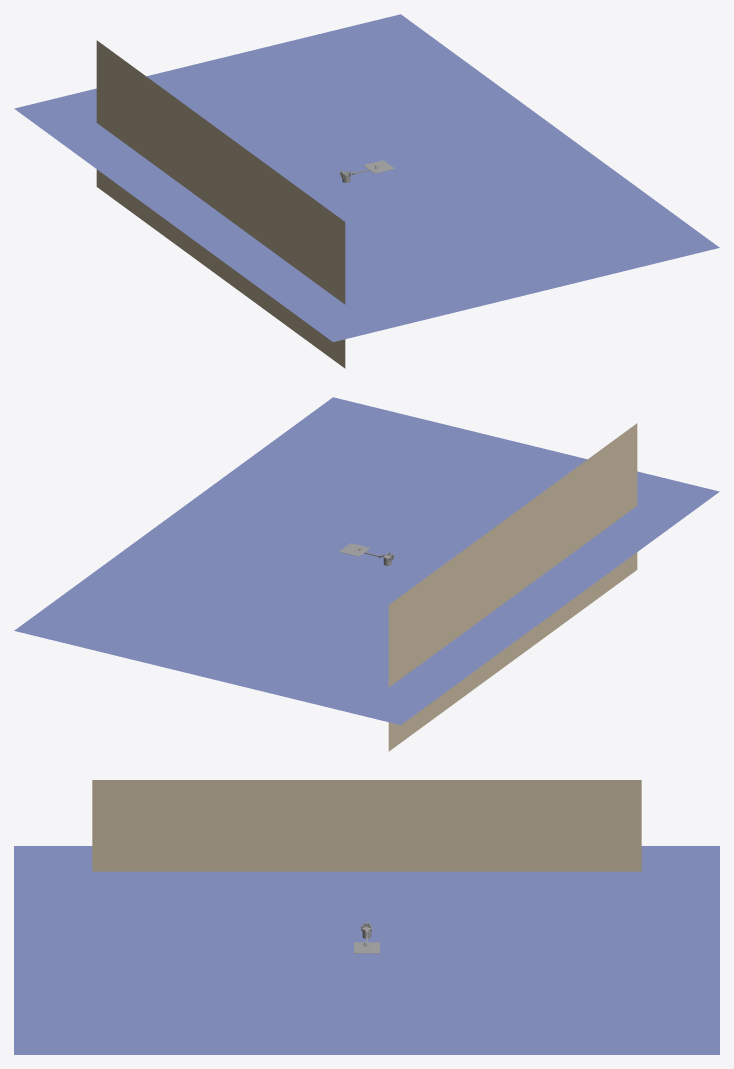
File: all_level3_staff.fbx
3 views of the same model, one above another, from view 1: azimuth 30°, elevation 25°; view 2: azimuth 150°, elevation 25°; view 3: azimuth 270°, elevation 25° (orthographic). The views are drawn at different scales.
Parts seen in each view (by area): view 1: pPlane1, pPlane2; view 2: pPlane1, pPlane2; view 3: pPlane1, pPlane2.
Part boxes in pixels (x1,y1,x2,y2): pPlane1: [14, 14, 719, 341]; pPlane2: [96, 40, 345, 368]; pPlane1: [14, 397, 719, 724]; pPlane2: [388, 423, 637, 751]; pPlane1: [14, 846, 719, 1054]; pPlane2: [92, 780, 641, 871].
Bounding box in the file's own units: 12150 × 4404 × 17360.
